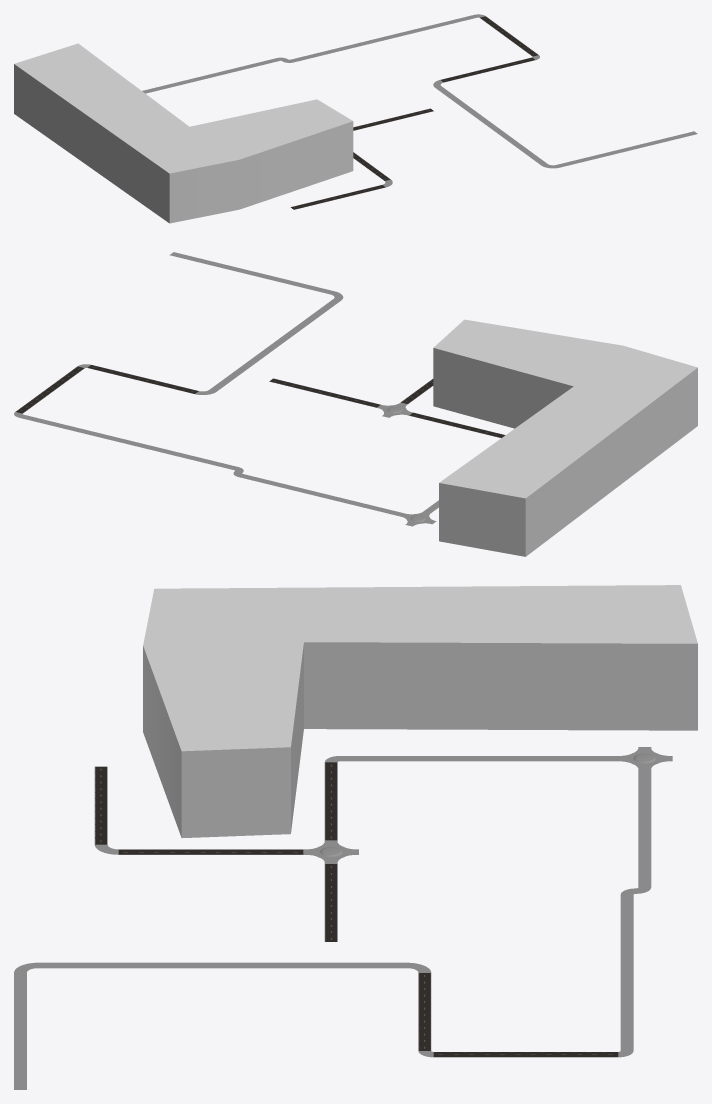
The model's file is Level_Test3.DAE.
The picture shows the model from 3 angles, top to bottom: view 1: azimuth 30°, elevation 25°; view 2: azimuth 150°, elevation 25°; view 3: azimuth 270°, elevation 25°; orthographic projection. The views are drawn at different scales.
Visible parts, largest first — view 1: Line01, Road_200M_02, Road_200M_03, Road_150M_04, Road_150M_03, Road_100M_06, Road_100M_02, Road_100M_05, Road_100M_07; view 2: Line01, Road_200M_02, Road_200M_03, Road_150M_03, Road_150M_04, Road_100M_06, Road_100M_07, Road_100M_05; view 3: Line01, Road_200M_03, Road_200M_02, Road_150M_02, Road_150M_03, Road_150M_04, Road_100M_03, Road_100M_05, Road_100M_02, Road_100M_04, Road_100M_06, Road_100M_07.
Boxes of the visible parts, left/top/right/bottom form: Line01: left=14, top=43, right=353, bottom=223; Road_200M_02: left=290, top=15, right=477, bottom=62; Road_200M_03: left=435, top=86, right=547, bottom=165; Road_150M_04: left=557, top=131, right=697, bottom=167; Road_150M_03: left=142, top=58, right=279, bottom=93; Road_100M_06: left=440, top=57, right=535, bottom=82; Road_100M_02: left=290, top=185, right=385, bottom=209; Road_100M_05: left=480, top=16, right=538, bottom=56; Road_100M_07: left=353, top=108, right=433, bottom=130; Line01: left=433, top=319, right=697, bottom=556; Road_200M_02: left=19, top=414, right=238, bottom=469; Road_200M_03: left=209, top=299, right=340, bottom=391; Road_150M_03: left=239, top=474, right=403, bottom=516; Road_150M_04: left=169, top=252, right=334, bottom=294; Road_100M_06: left=87, top=365, right=198, bottom=393; Road_100M_07: left=269, top=378, right=380, bottom=407; Road_100M_05: left=15, top=366, right=84, bottom=413; Line01: left=143, top=585, right=697, bottom=838; Road_200M_03: left=38, top=962, right=407, bottom=968; Road_200M_02: left=620, top=895, right=633, bottom=1050; Road_150M_02: left=340, top=756, right=616, bottom=761; Road_150M_03: left=638, top=770, right=651, bottom=887; Road_150M_04: left=14, top=973, right=26, bottom=1089; Road_100M_03: left=118, top=849, right=303, bottom=854; Road_100M_05: left=433, top=1052, right=618, bottom=1057; Road_100M_02: left=94, top=766, right=107, bottom=844; Road_100M_04: left=324, top=762, right=337, bottom=840; Road_100M_06: left=418, top=973, right=431, bottom=1050; Road_100M_07: left=324, top=864, right=337, bottom=941.
Bounding box in the file's own units: 536 × 370 × 51.92.
